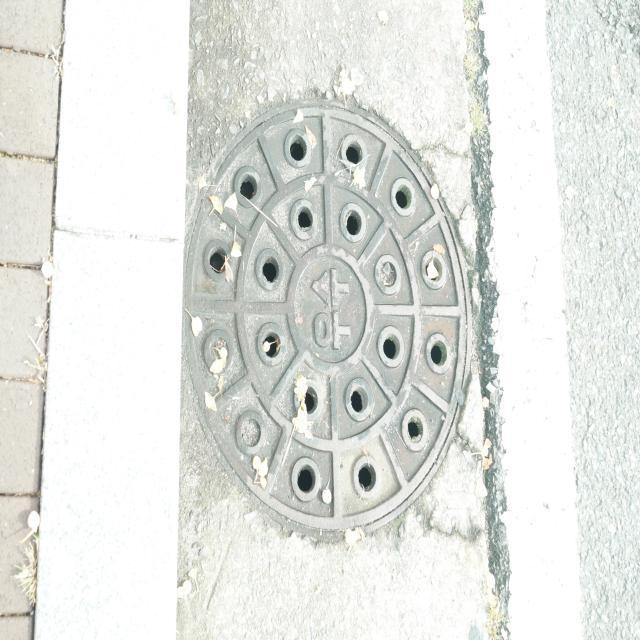manhole: (186, 104, 468, 531)
